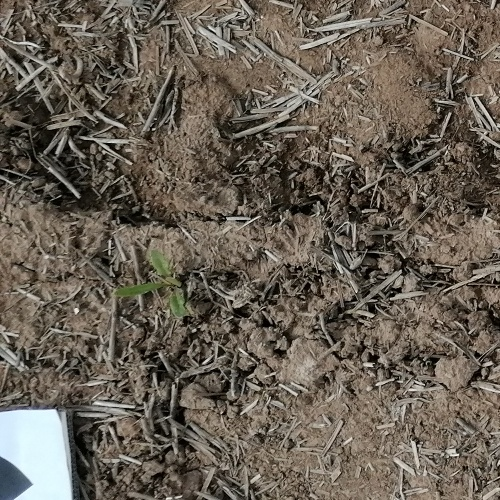beet: (110, 246, 193, 325)
